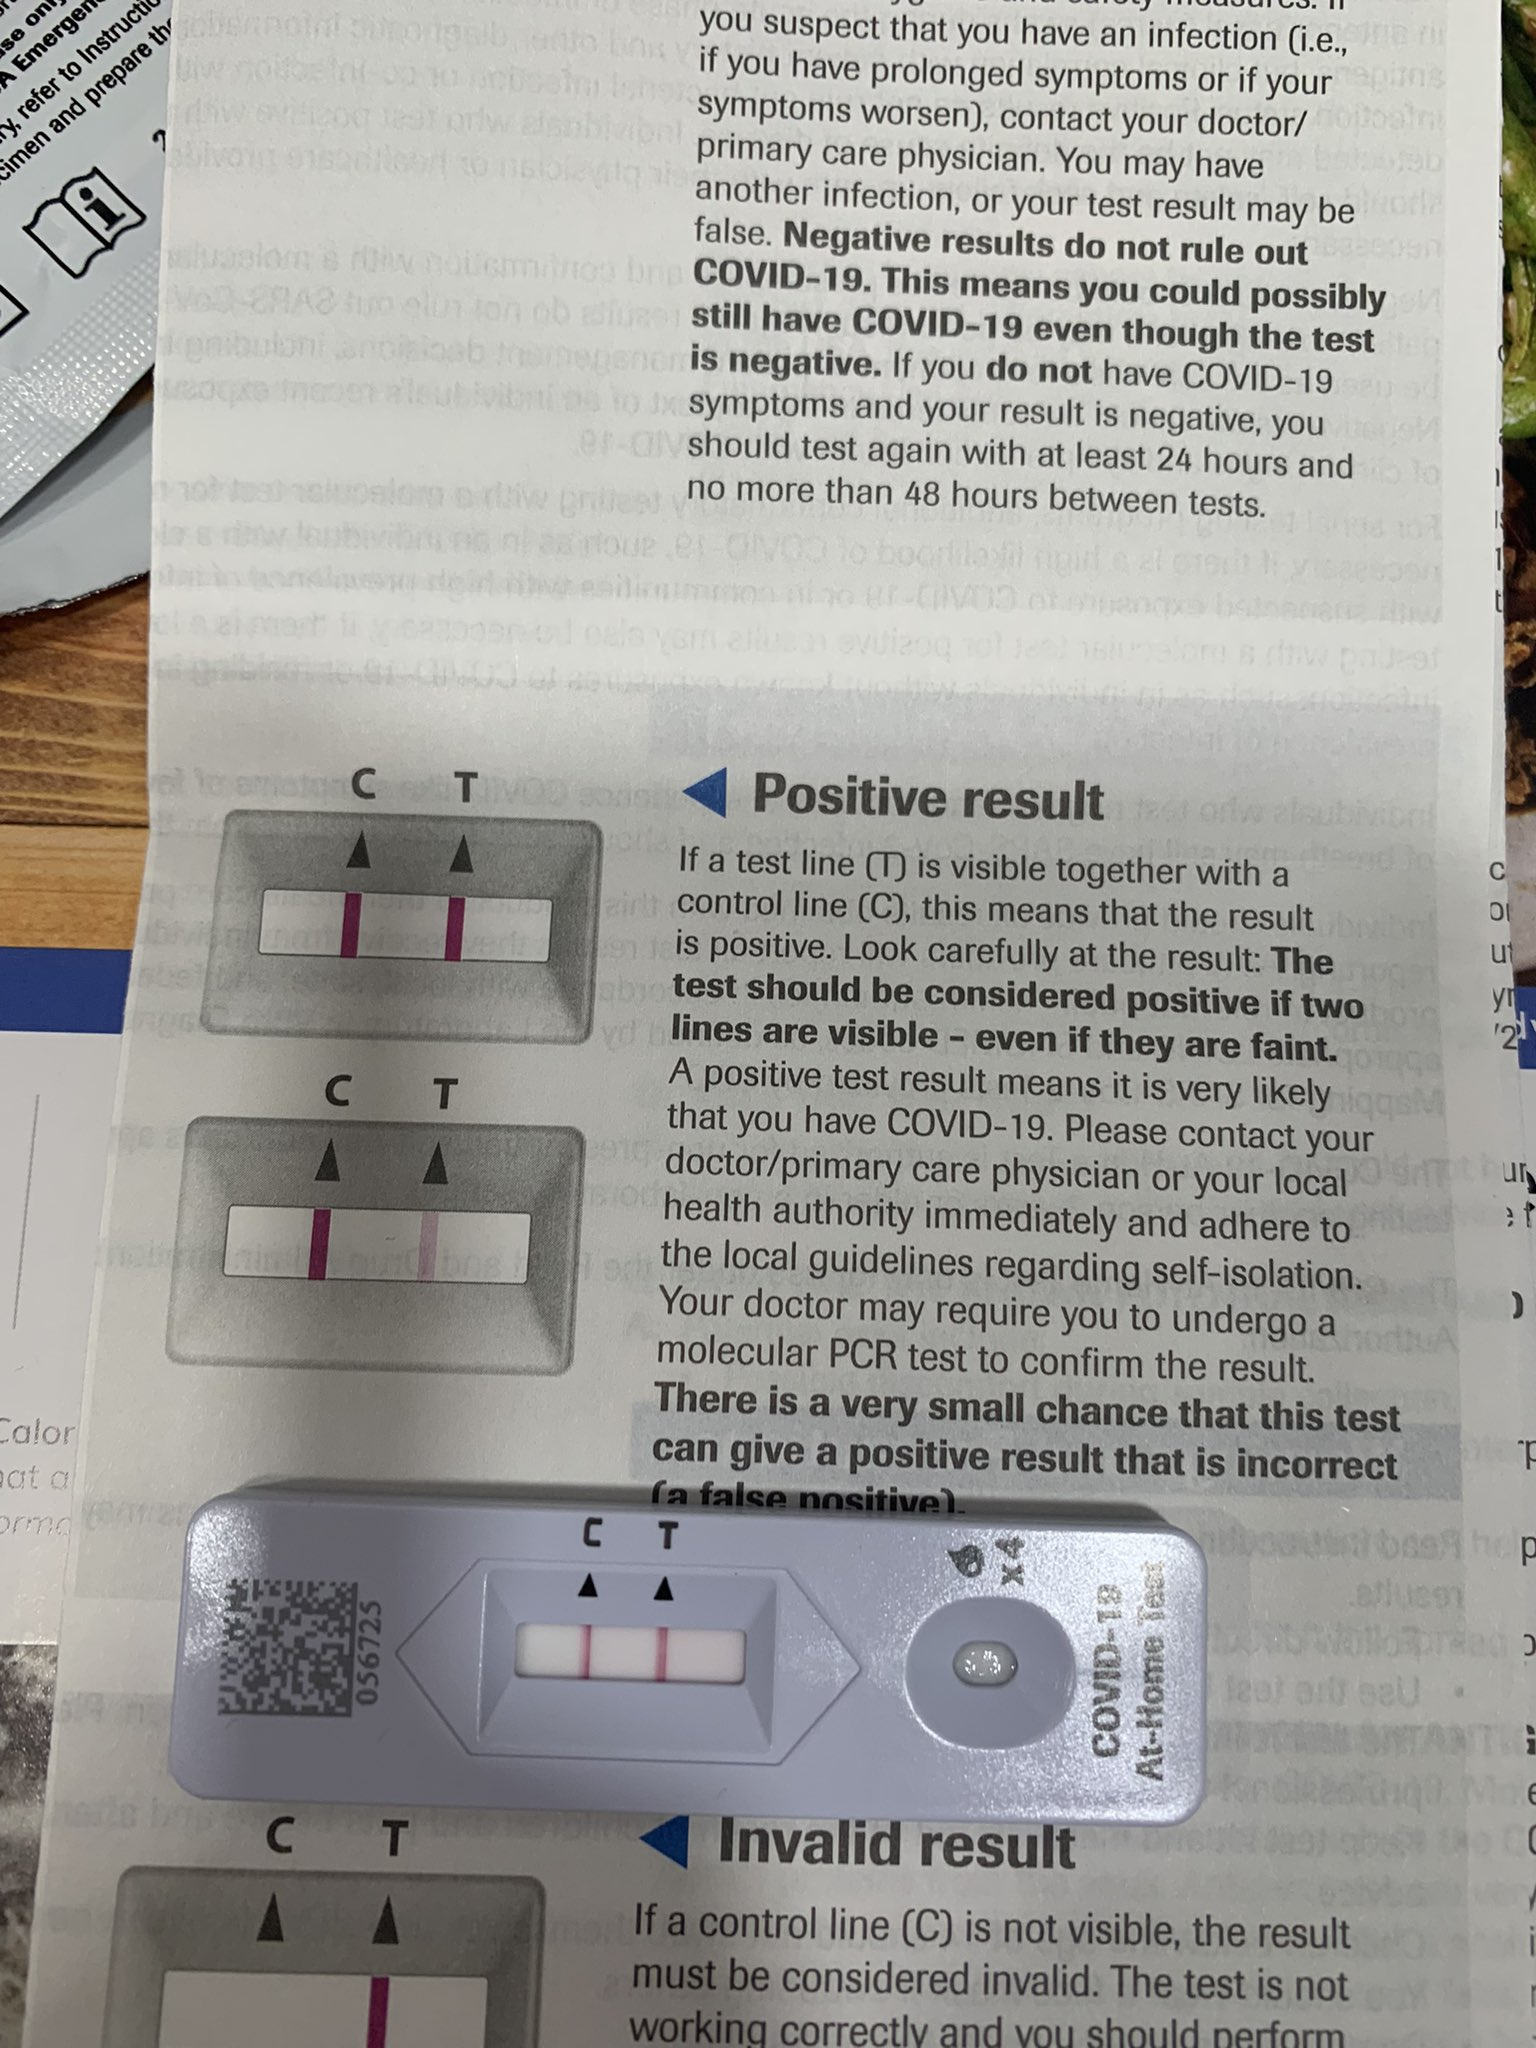negative: (132, 1958, 529, 2046)
positive: (211, 842, 584, 989), (223, 1184, 553, 1327), (474, 1593, 770, 1714)
